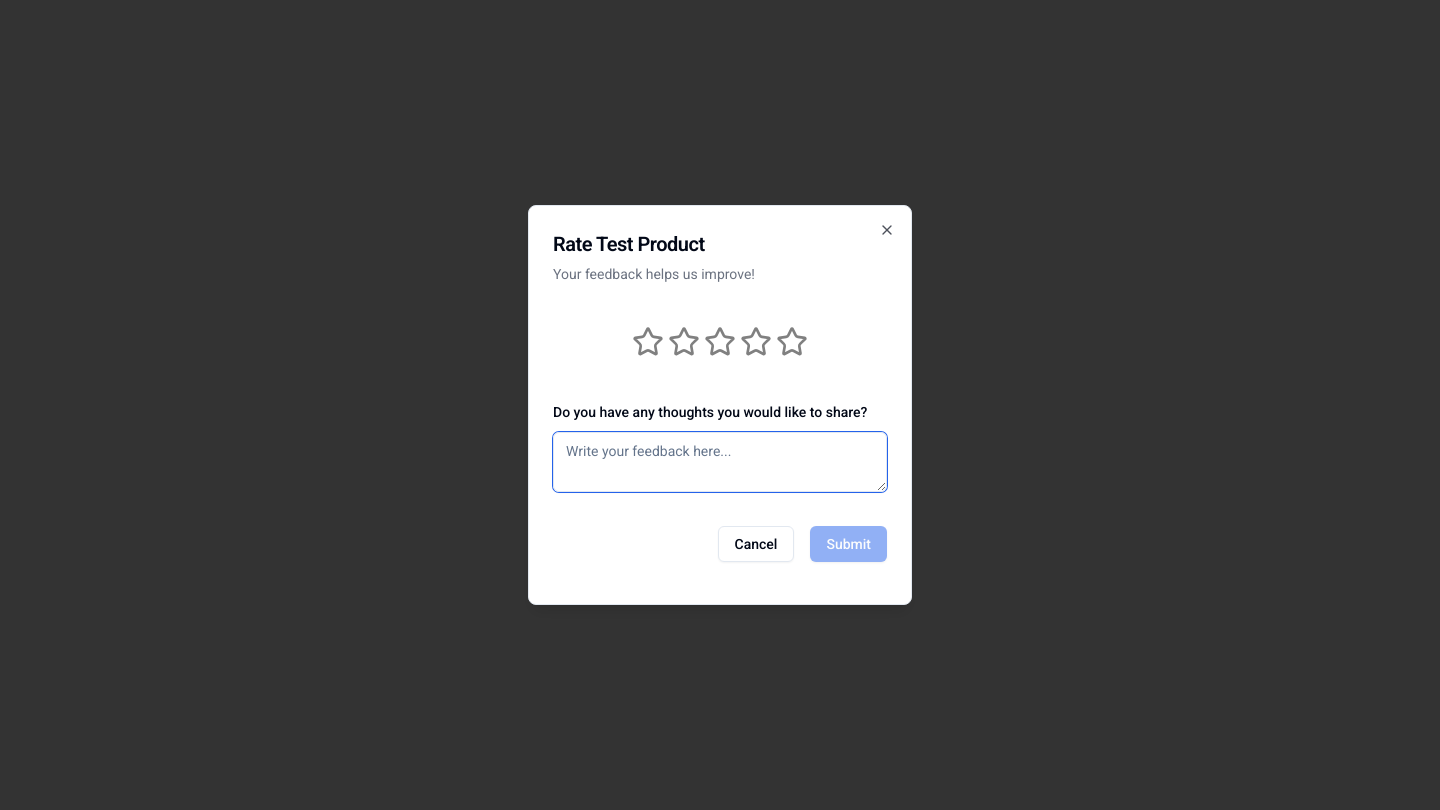
Test: FeedbackModal › enables submit button when rating is selected
Expected: the button "Submit" is disabled, [810,526,887,562]
Click the 3rd icon with test id "star-icon".
click(720, 342)  # box [704,326,736,358]
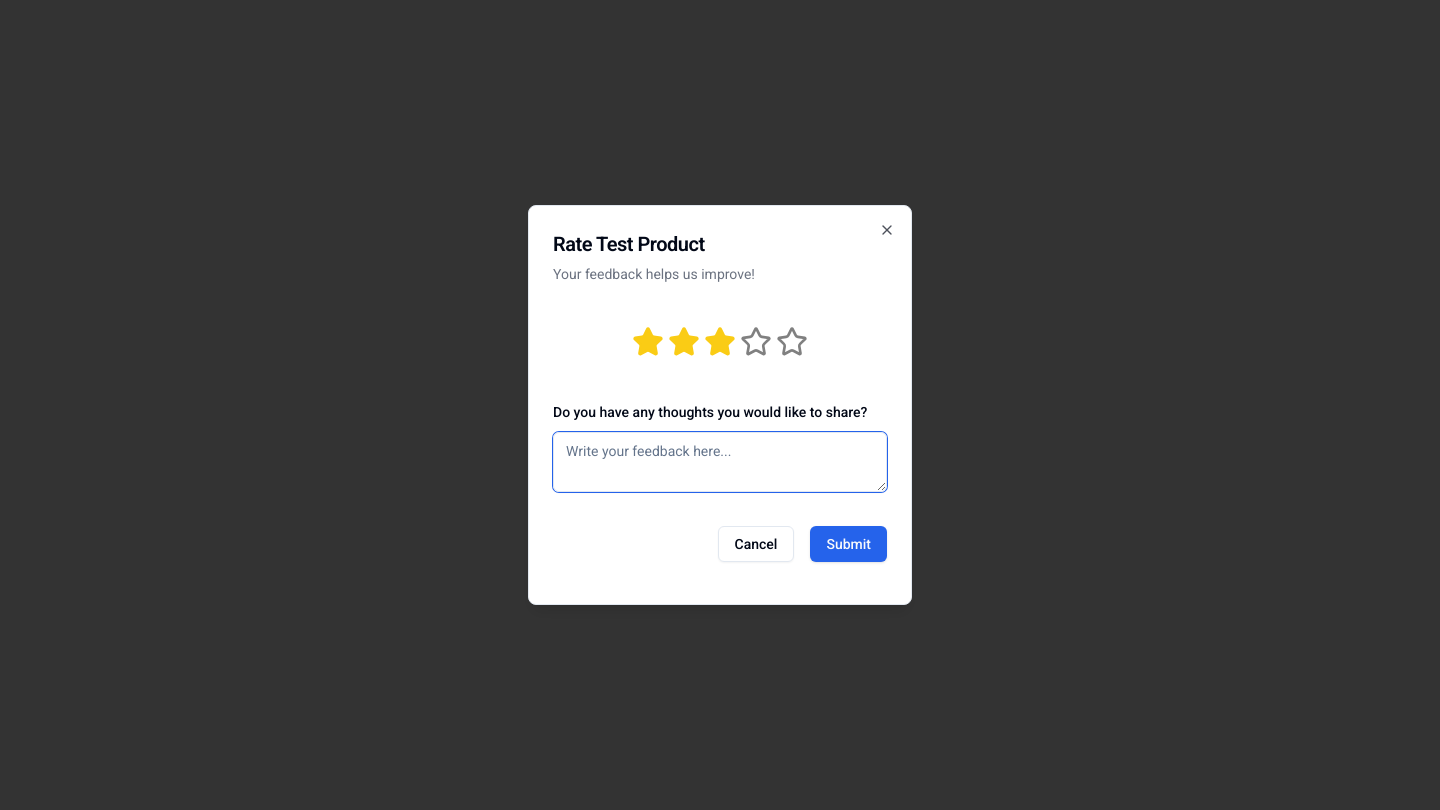
Result: the button "Submit" is enabled at [810,526,887,562]
